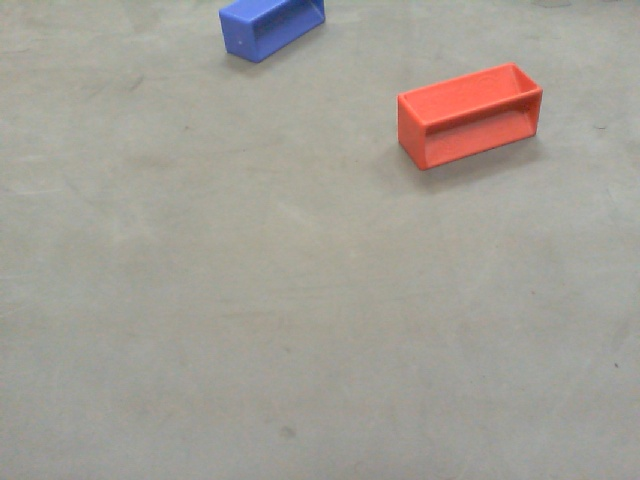BlueSample: (217, 1, 328, 66)
RedSample: (394, 58, 553, 177)
